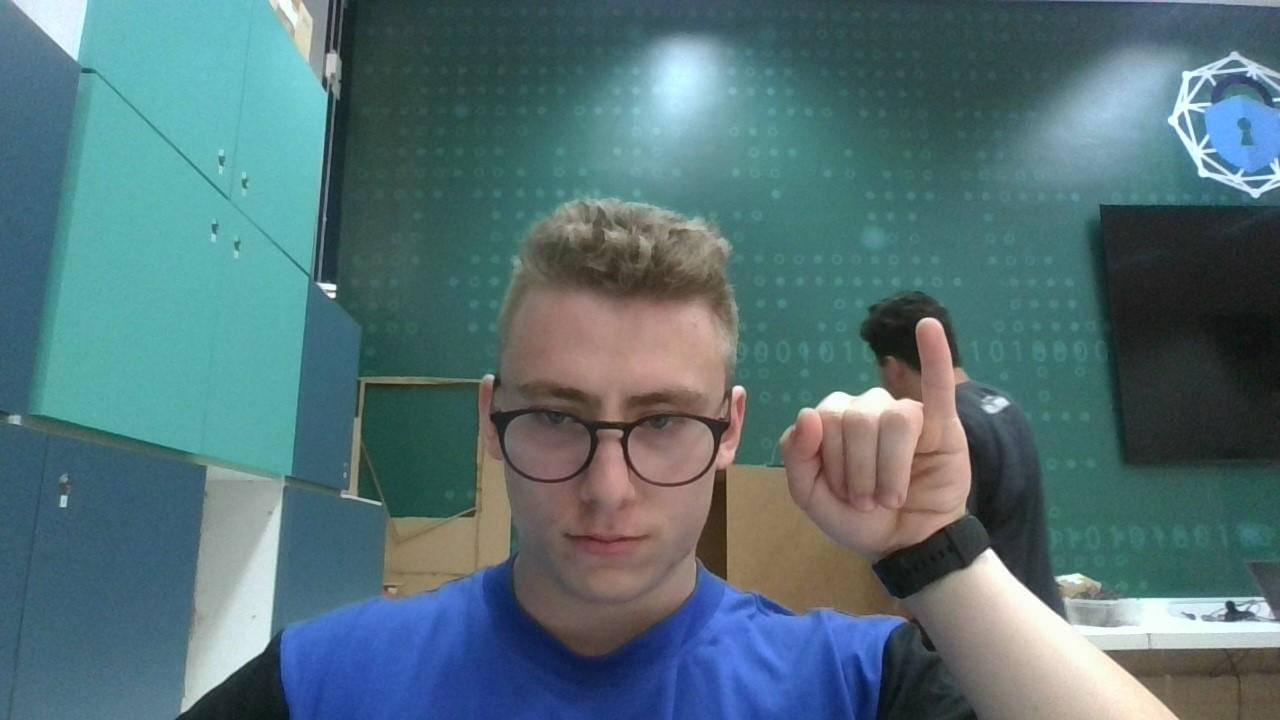I: (782, 314, 976, 538)
